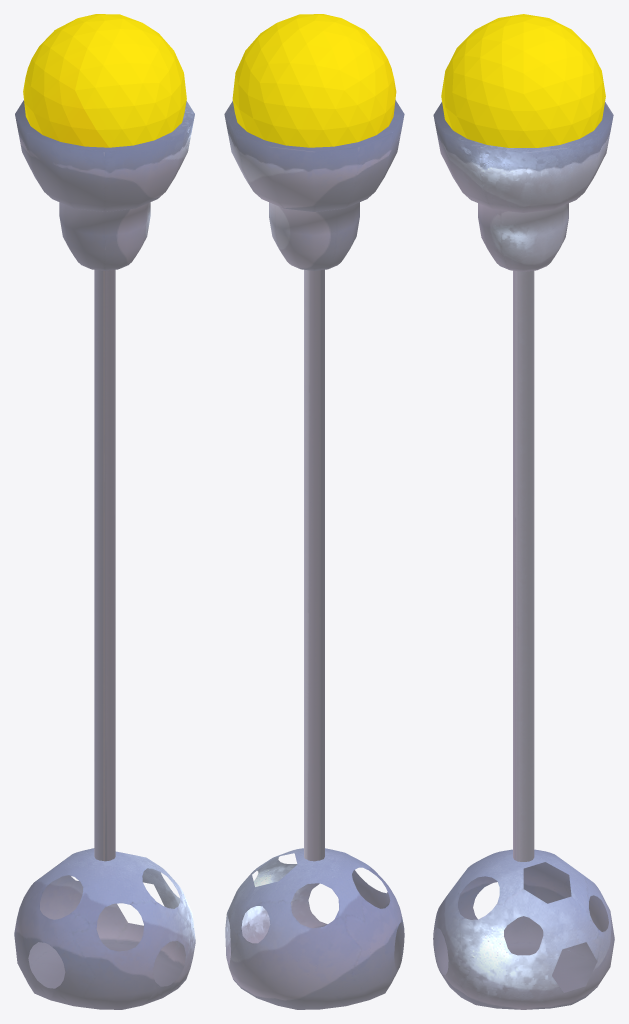
The model's file is MoonLamp.glb.
The picture shows the model from 3 angles, left to right: view 1: azimuth 30°, elevation 25°; view 2: azimuth 150°, elevation 25°; view 3: azimuth 270°, elevation 25°; orthographic projection.
Parts seen in each view (by area): view 1: Cylinder.011, Cylinder.010; view 2: Cylinder.011, Cylinder.010; view 3: Cylinder.011, Cylinder.010.
Part boxes in pixels (box(x1,y1,x2,y2)): Cylinder.011: box(14, 100, 195, 1009); Cylinder.010: box(23, 14, 186, 147); Cylinder.011: box(224, 100, 404, 1009); Cylinder.010: box(232, 14, 396, 147); Cylinder.011: box(433, 102, 614, 1009); Cylinder.010: box(441, 14, 605, 147).
Size of what is drawn, in the model's own units: 0.8328 by 4.83 by 0.8325.
2 materials, 2 textured.
